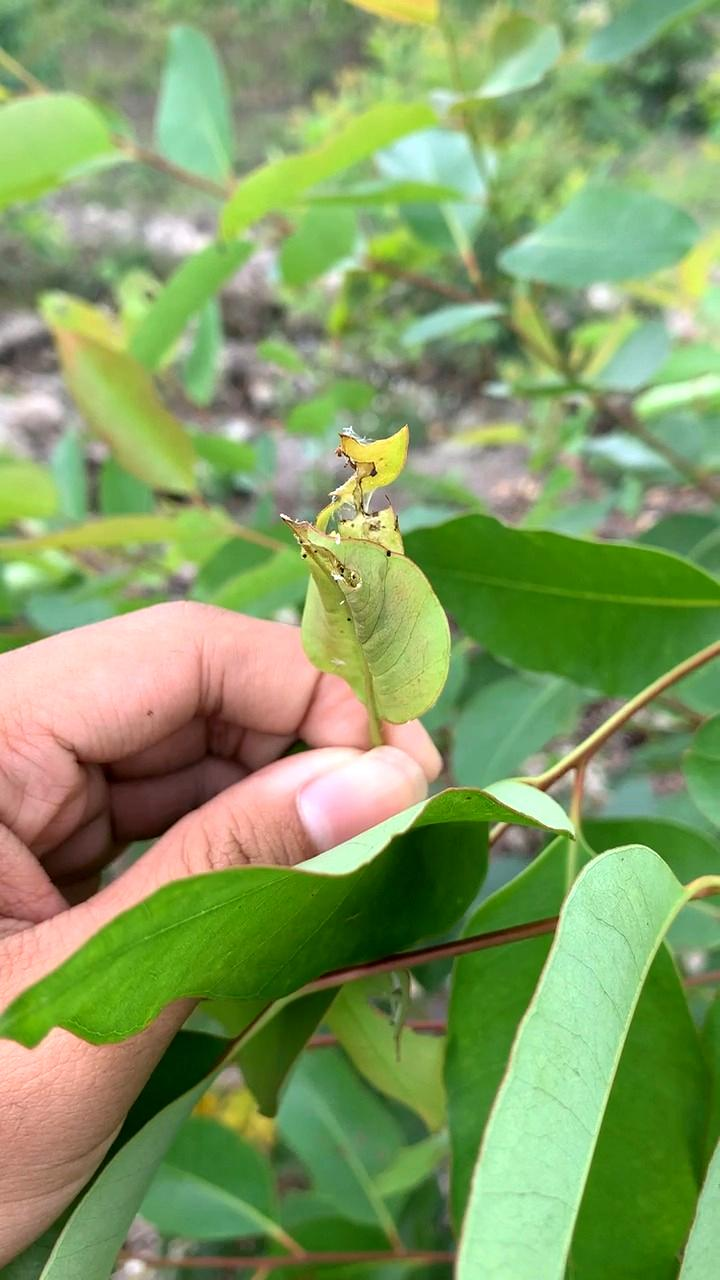Leaf Roller - Leaf: (275, 412, 466, 730)
